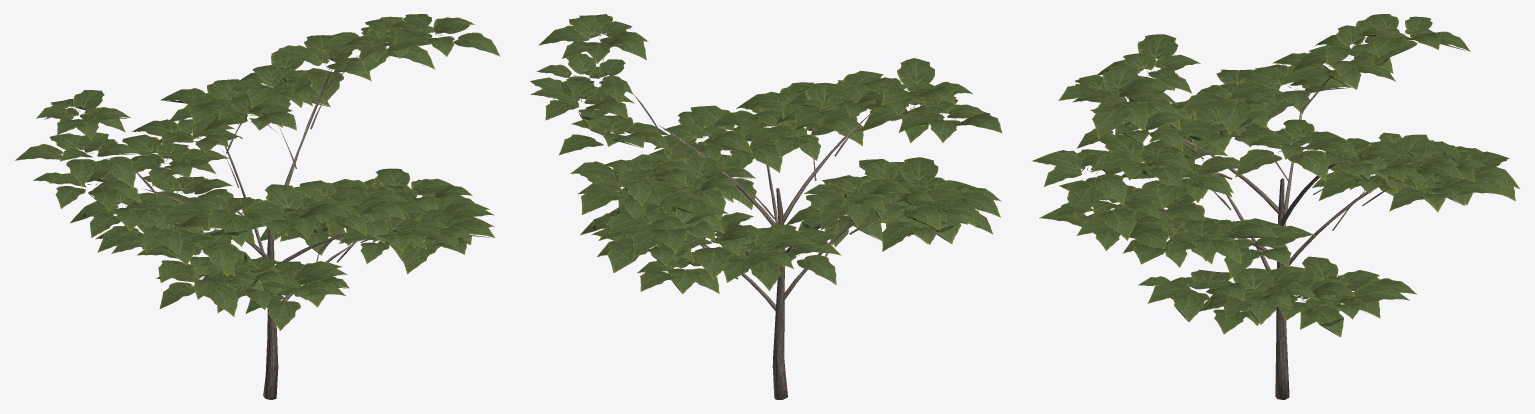
The model's file is broussonetia-2.glb.
3 views of the same model, side by side, from view 1: azimuth 30°, elevation 25°; view 2: azimuth 150°, elevation 25°; view 3: azimuth 270°, elevation 25° (orthographic). The views are drawn at different scales.
Parts seen in each view (by area): view 1: leaf, bark, leaf-edge; view 2: leaf, bark, leaf-edge; view 3: leaf, bark, leaf-edge.
Part boxes in pixels (<box>): leaf: <box>15,14,500,330</box>; bark: <box>136,46,383,399</box>; leaf-edge: <box>43,28,492,311</box>; leaf: <box>530,14,1002,294</box>; bark: <box>603,58,879,399</box>; leaf-edge: <box>540,33,996,292</box>; leaf: <box>1032,14,1519,337</box>; bark: <box>1121,73,1402,399</box>; leaf-edge: <box>1039,18,1516,336</box>.
Size of the model in its own units: 2.12 by 1.56 by 1.98.
Materials: 5 (4 with a texture image).
